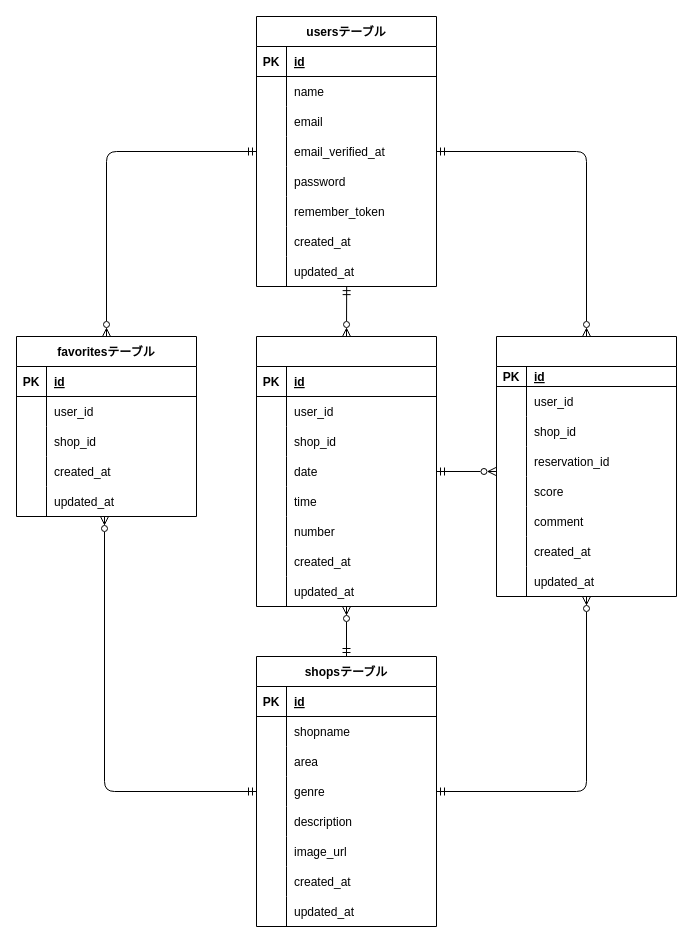
Some shapes in this 693 by 943 pixel diagram are drawn without their labels. The box of each missing label's shape, as (x1, y1, x2, y2) in pixels:
reservationsテーブル: (256, 336, 436, 606)
reviewsテーブル: (496, 336, 676, 596)
